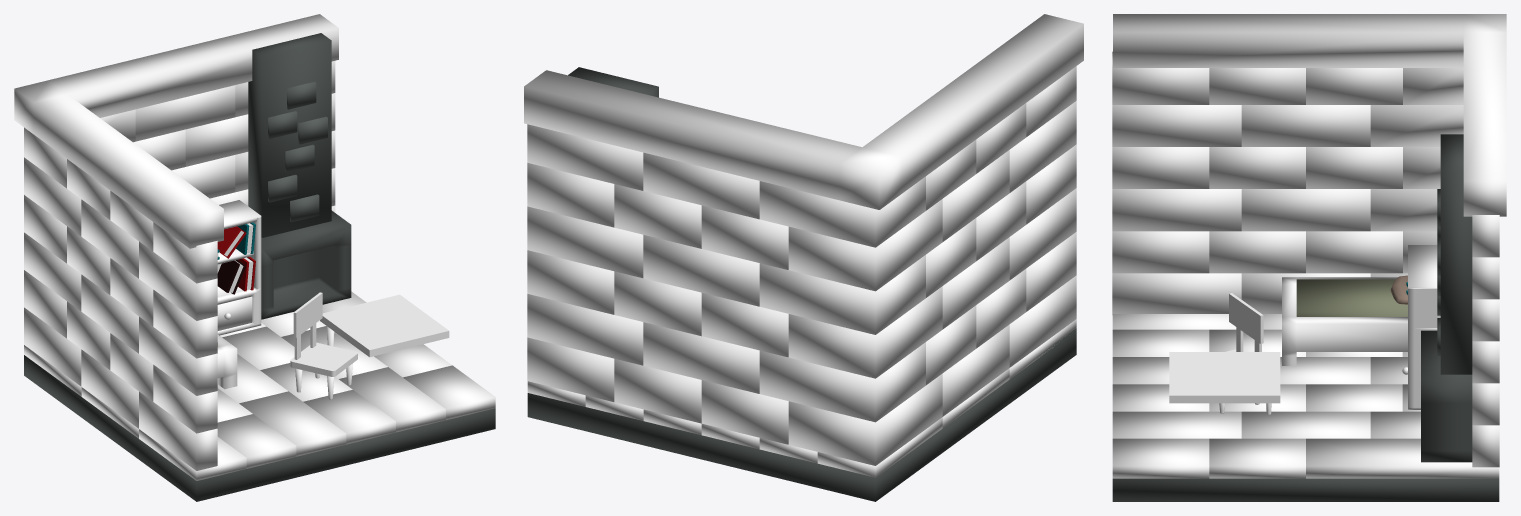
The model's file is cottageRoom.glb.
The picture shows the model from 3 angles, left to right: view 1: azimuth 30°, elevation 25°; view 2: azimuth 150°, elevation 25°; view 3: azimuth 270°, elevation 25°; orthographic projection. The views are drawn at different scales.
Visible parts, largest first — view 1: Cube, Plane.001, Plane.003, Cube.001, Plane, Plane.018, Plane.006, Cylinder.001, Cube.002, Cube.010, Cube.006; view 2: Cube, Plane.003, Plane, Plane.001, Cube.001; view 3: Cube, Plane.001, Plane.003, Cube.001, Plane, Plane.018, Cube.002, Cube.003, Plane.006, Cylinder.001.
Part boxes in pixels (bbox=[...]): Cube: bbox=[24, 61, 335, 470]; Plane.001: bbox=[24, 291, 495, 480]; Plane.003: bbox=[14, 14, 338, 248]; Cube.001: bbox=[248, 33, 351, 319]; Plane: bbox=[24, 355, 495, 501]; Plane.018: bbox=[320, 294, 449, 357]; Plane.006: bbox=[217, 200, 261, 335]; Cylinder.001: bbox=[290, 292, 357, 399]; Cube.002: bbox=[217, 334, 237, 389]; Cube.010: bbox=[217, 259, 245, 294]; Cube.006: bbox=[217, 226, 246, 258]; Cube: bbox=[527, 66, 1076, 465]; Plane.003: bbox=[524, 14, 1083, 209]; Plane: bbox=[527, 328, 1076, 501]; Plane.001: bbox=[527, 319, 1076, 477]; Cube.001: bbox=[568, 67, 658, 97]; Cube: bbox=[1112, 51, 1499, 467]; Plane.001: bbox=[1112, 314, 1499, 478]; Plane.003: bbox=[1113, 14, 1506, 216]; Cube.001: bbox=[1421, 134, 1472, 462]; Plane: bbox=[1112, 478, 1499, 501]; Plane.018: bbox=[1169, 352, 1280, 403]; Cube.002: bbox=[1282, 277, 1407, 365]; Cube.003: bbox=[1296, 279, 1407, 316]; Plane.006: bbox=[1402, 245, 1440, 409]; Cylinder.001: bbox=[1219, 293, 1263, 413].
Size of what is drawn, in the model's own units: 7.45 by 6.67 by 7.42.
